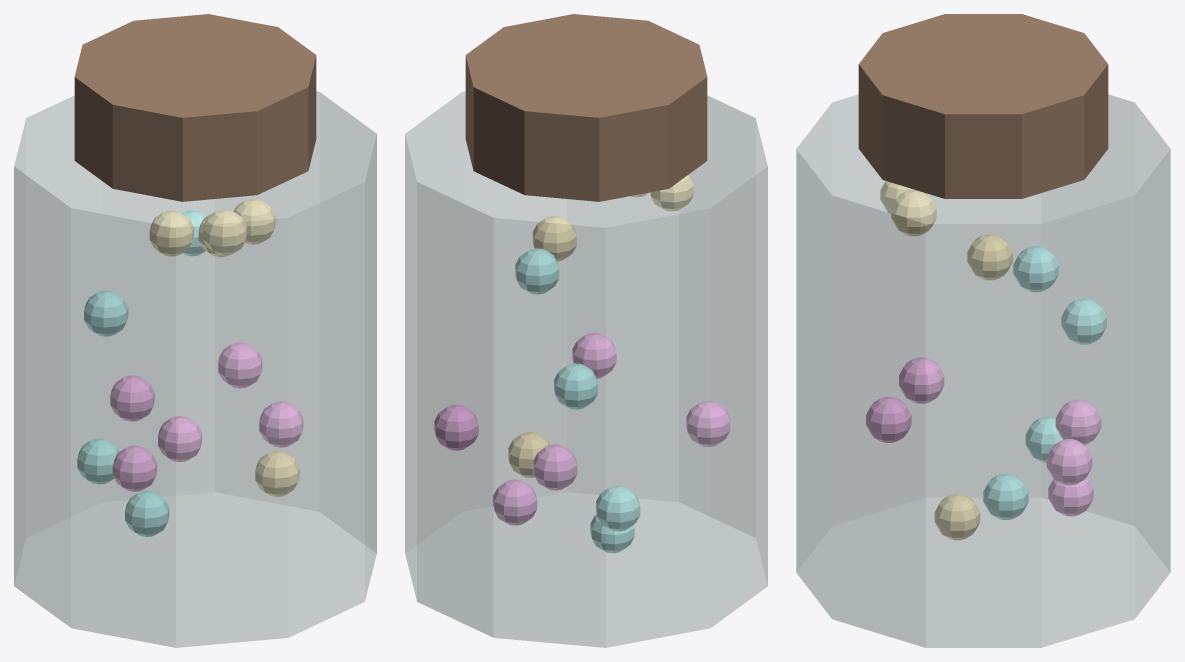
The model's file is FairyLightJar.fbx.
3 renders of one model, left to right at view 1: azimuth 30°, elevation 25°; view 2: azimuth 150°, elevation 25°; view 3: azimuth 270°, elevation 25°, orthographic.
Visible parts, largest first — view 1: Prop_FairyLightJar; view 2: Prop_FairyLightJar; view 3: Prop_FairyLightJar.
Boxes of the visible parts, x1=… form: Prop_FairyLightJar: x1=14, y1=14, x2=376, y2=647; Prop_FairyLightJar: x1=405, y1=14, x2=767, y2=647; Prop_FairyLightJar: x1=796, y1=14, x2=1170, y2=647.
Bounding box in the file's own units: 0.2283 × 0.36 × 0.24.
